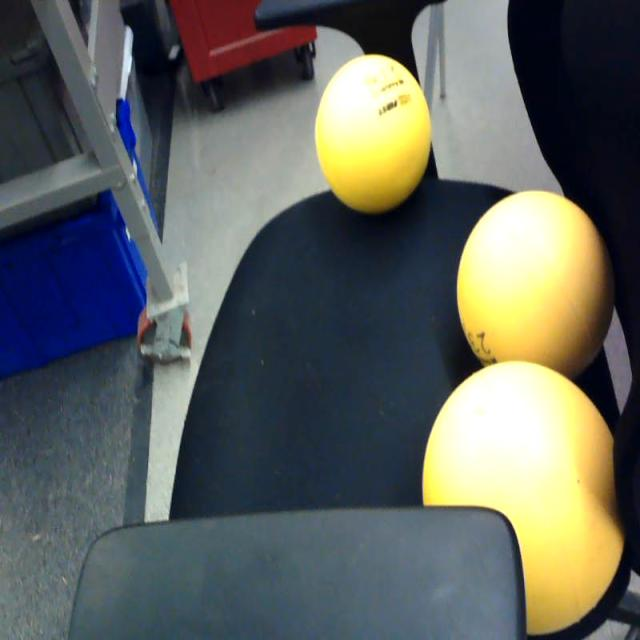Fuel: (422, 360, 626, 636), (457, 190, 616, 383), (314, 54, 432, 215)
